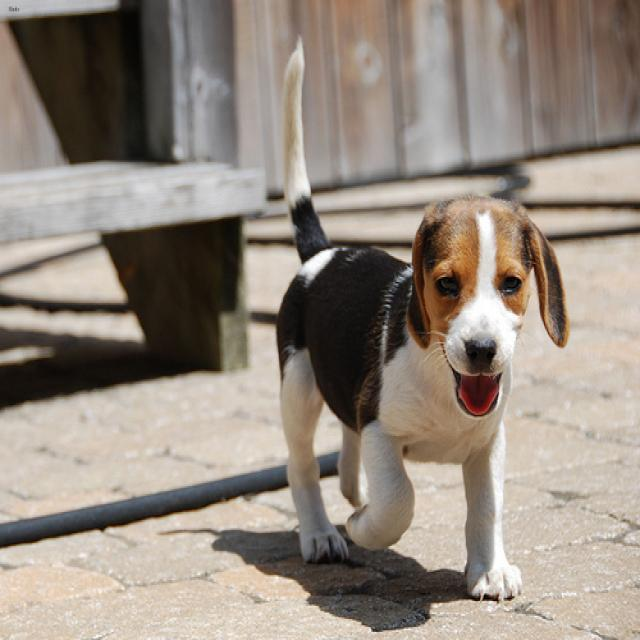dog-beagle: (269, 24, 577, 611)
